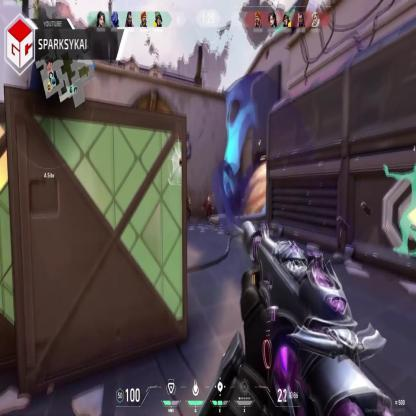enemy: (206, 191, 216, 219), (183, 192, 191, 223)
enemy_head: (208, 193, 213, 202), (186, 194, 190, 199)
